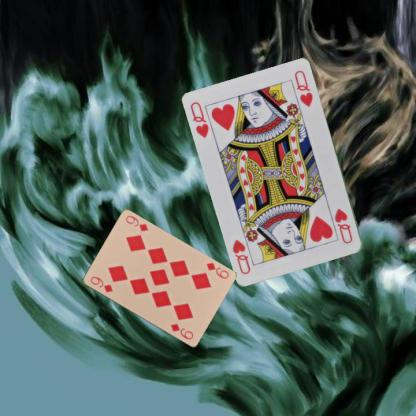9d: (203, 260, 230, 280), (87, 274, 114, 293)
Qh: (188, 99, 211, 140), (332, 206, 354, 245)
